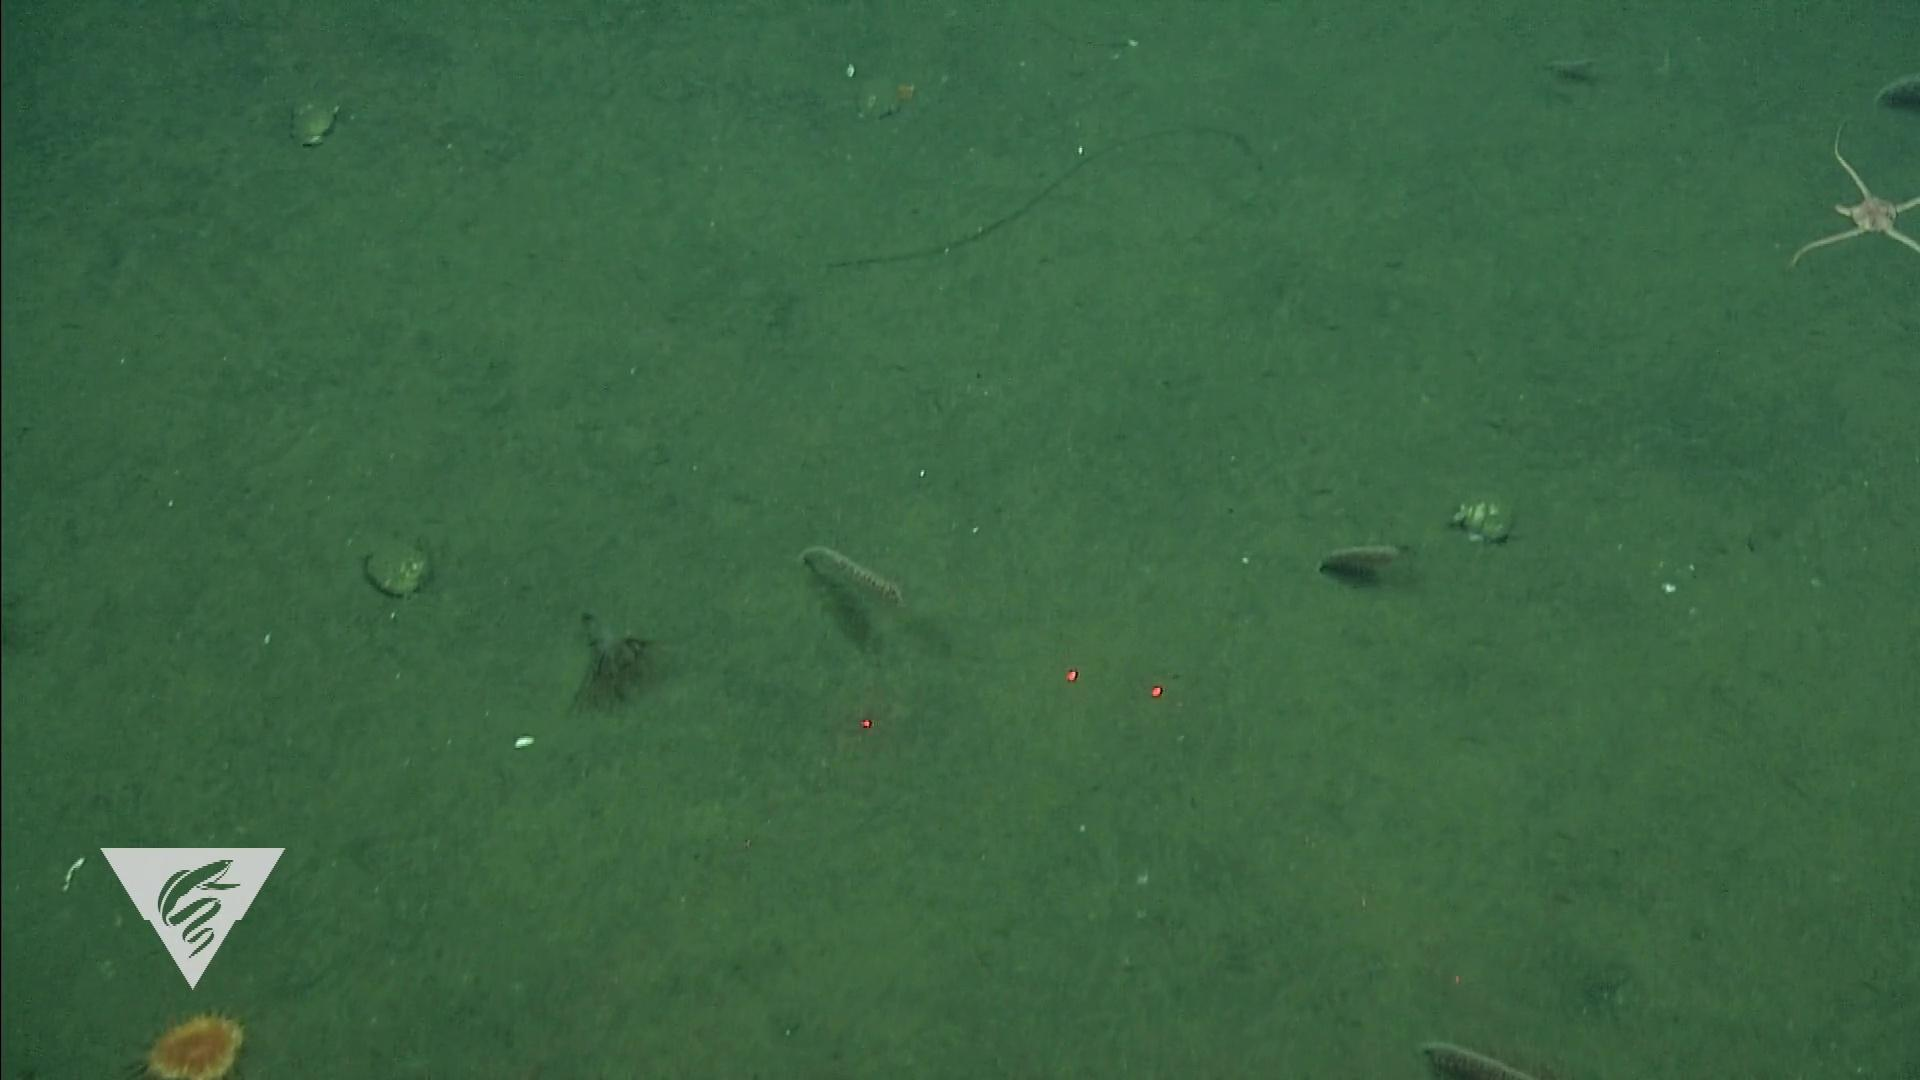Brittle Star: (1791, 123, 1920, 268)
